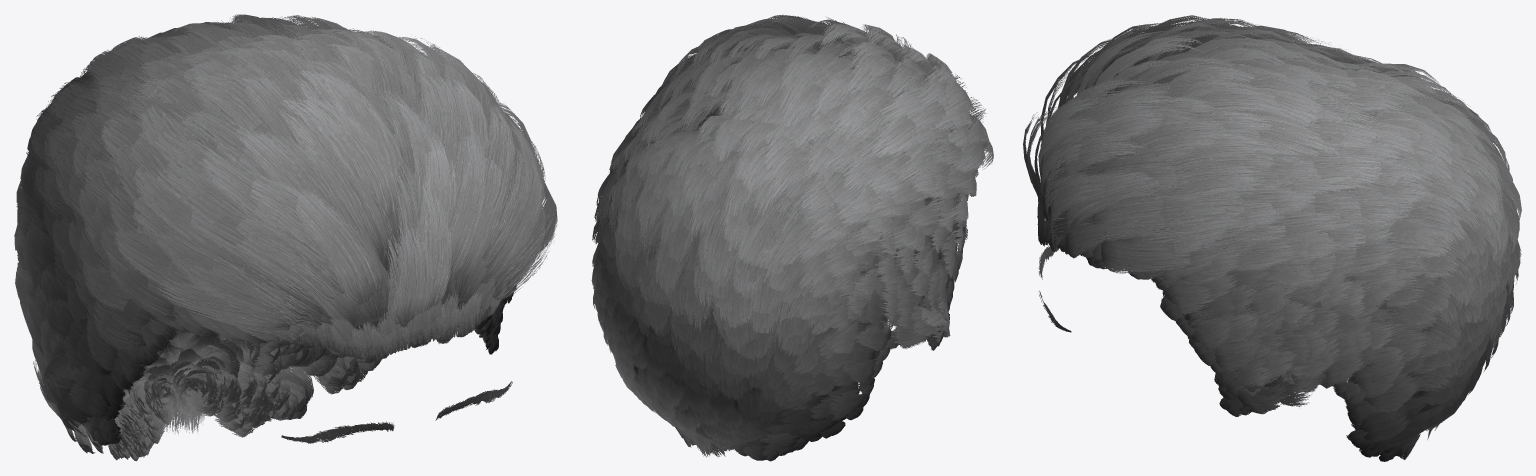
File: hair.glb
3 views of the same model, side by side, from view 1: azimuth 30°, elevation 25°; view 2: azimuth 150°, elevation 25°; view 3: azimuth 270°, elevation 25° (orthographic). The views are drawn at different scales.
Visible parts, largest first — view 1: hair, brows; view 2: hair; view 3: hair.
Boxes of the visible parts, left/top/right/bottom form: hair: left=14, top=14, right=557, bottom=461; brows: left=281, top=381, right=512, bottom=443; hair: left=591, top=14, right=993, bottom=461; hair: left=1023, top=15, right=1521, bottom=461.
Bounding box in the file's own units: 0.1971 × 0.1985 × 0.2273.
3 materials, 2 textured.
